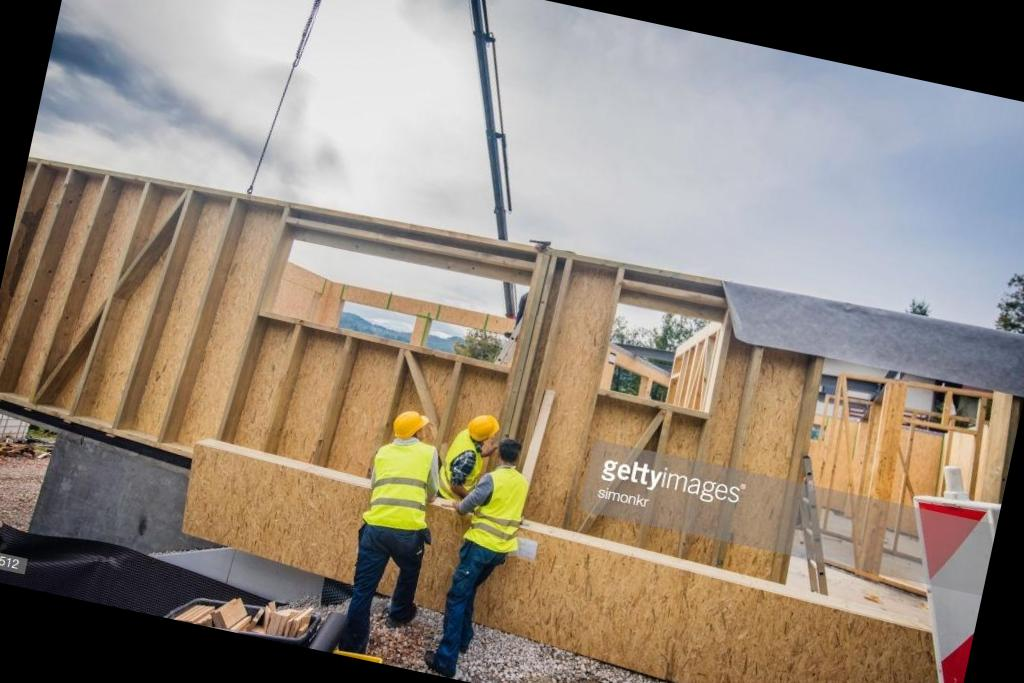Vest: (364, 428, 445, 536), (464, 455, 540, 558)
